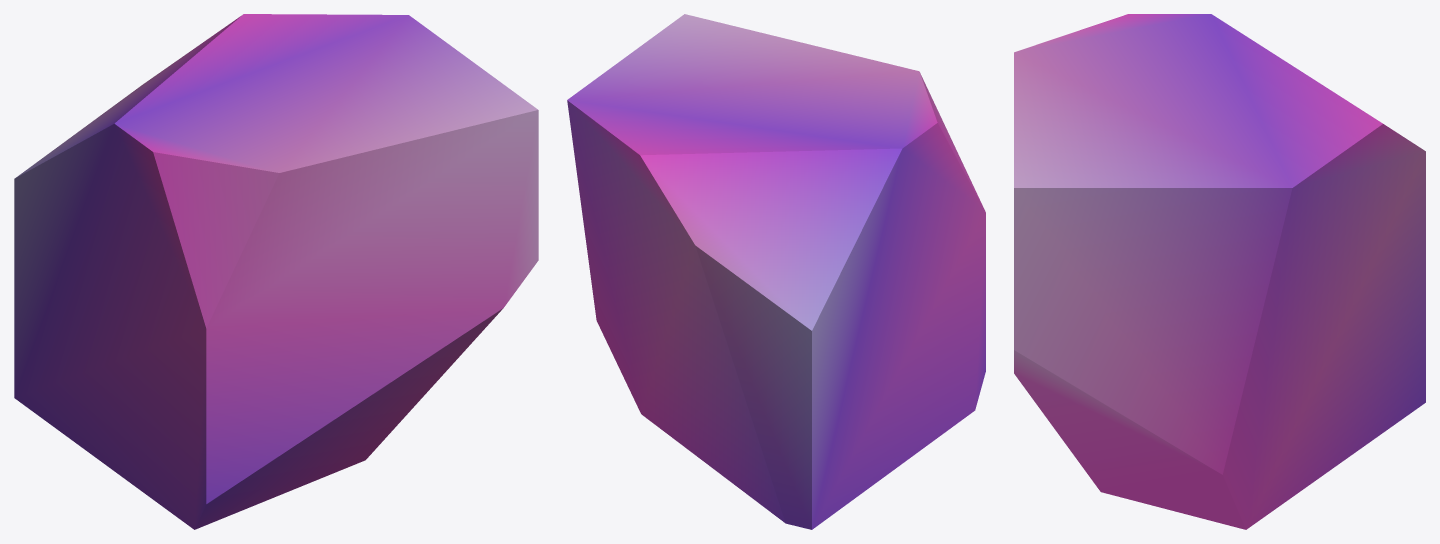
The model's file is rock2.glb.
3 views of the same model, side by side, from view 1: azimuth 30°, elevation 25°; view 2: azimuth 150°, elevation 25°; view 3: azimuth 270°, elevation 25° (orthographic). The views are drawn at different scales.
Visible parts, largest first — view 1: Cube; view 2: Cube; view 3: Cube.
Part boxes in pixels (<box>): Cube: <box>14,14,538,529</box>; Cube: <box>567,14,985,529</box>; Cube: <box>1014,14,1425,529</box>.
Size of the model in its own units: 2 by 2 by 2.
